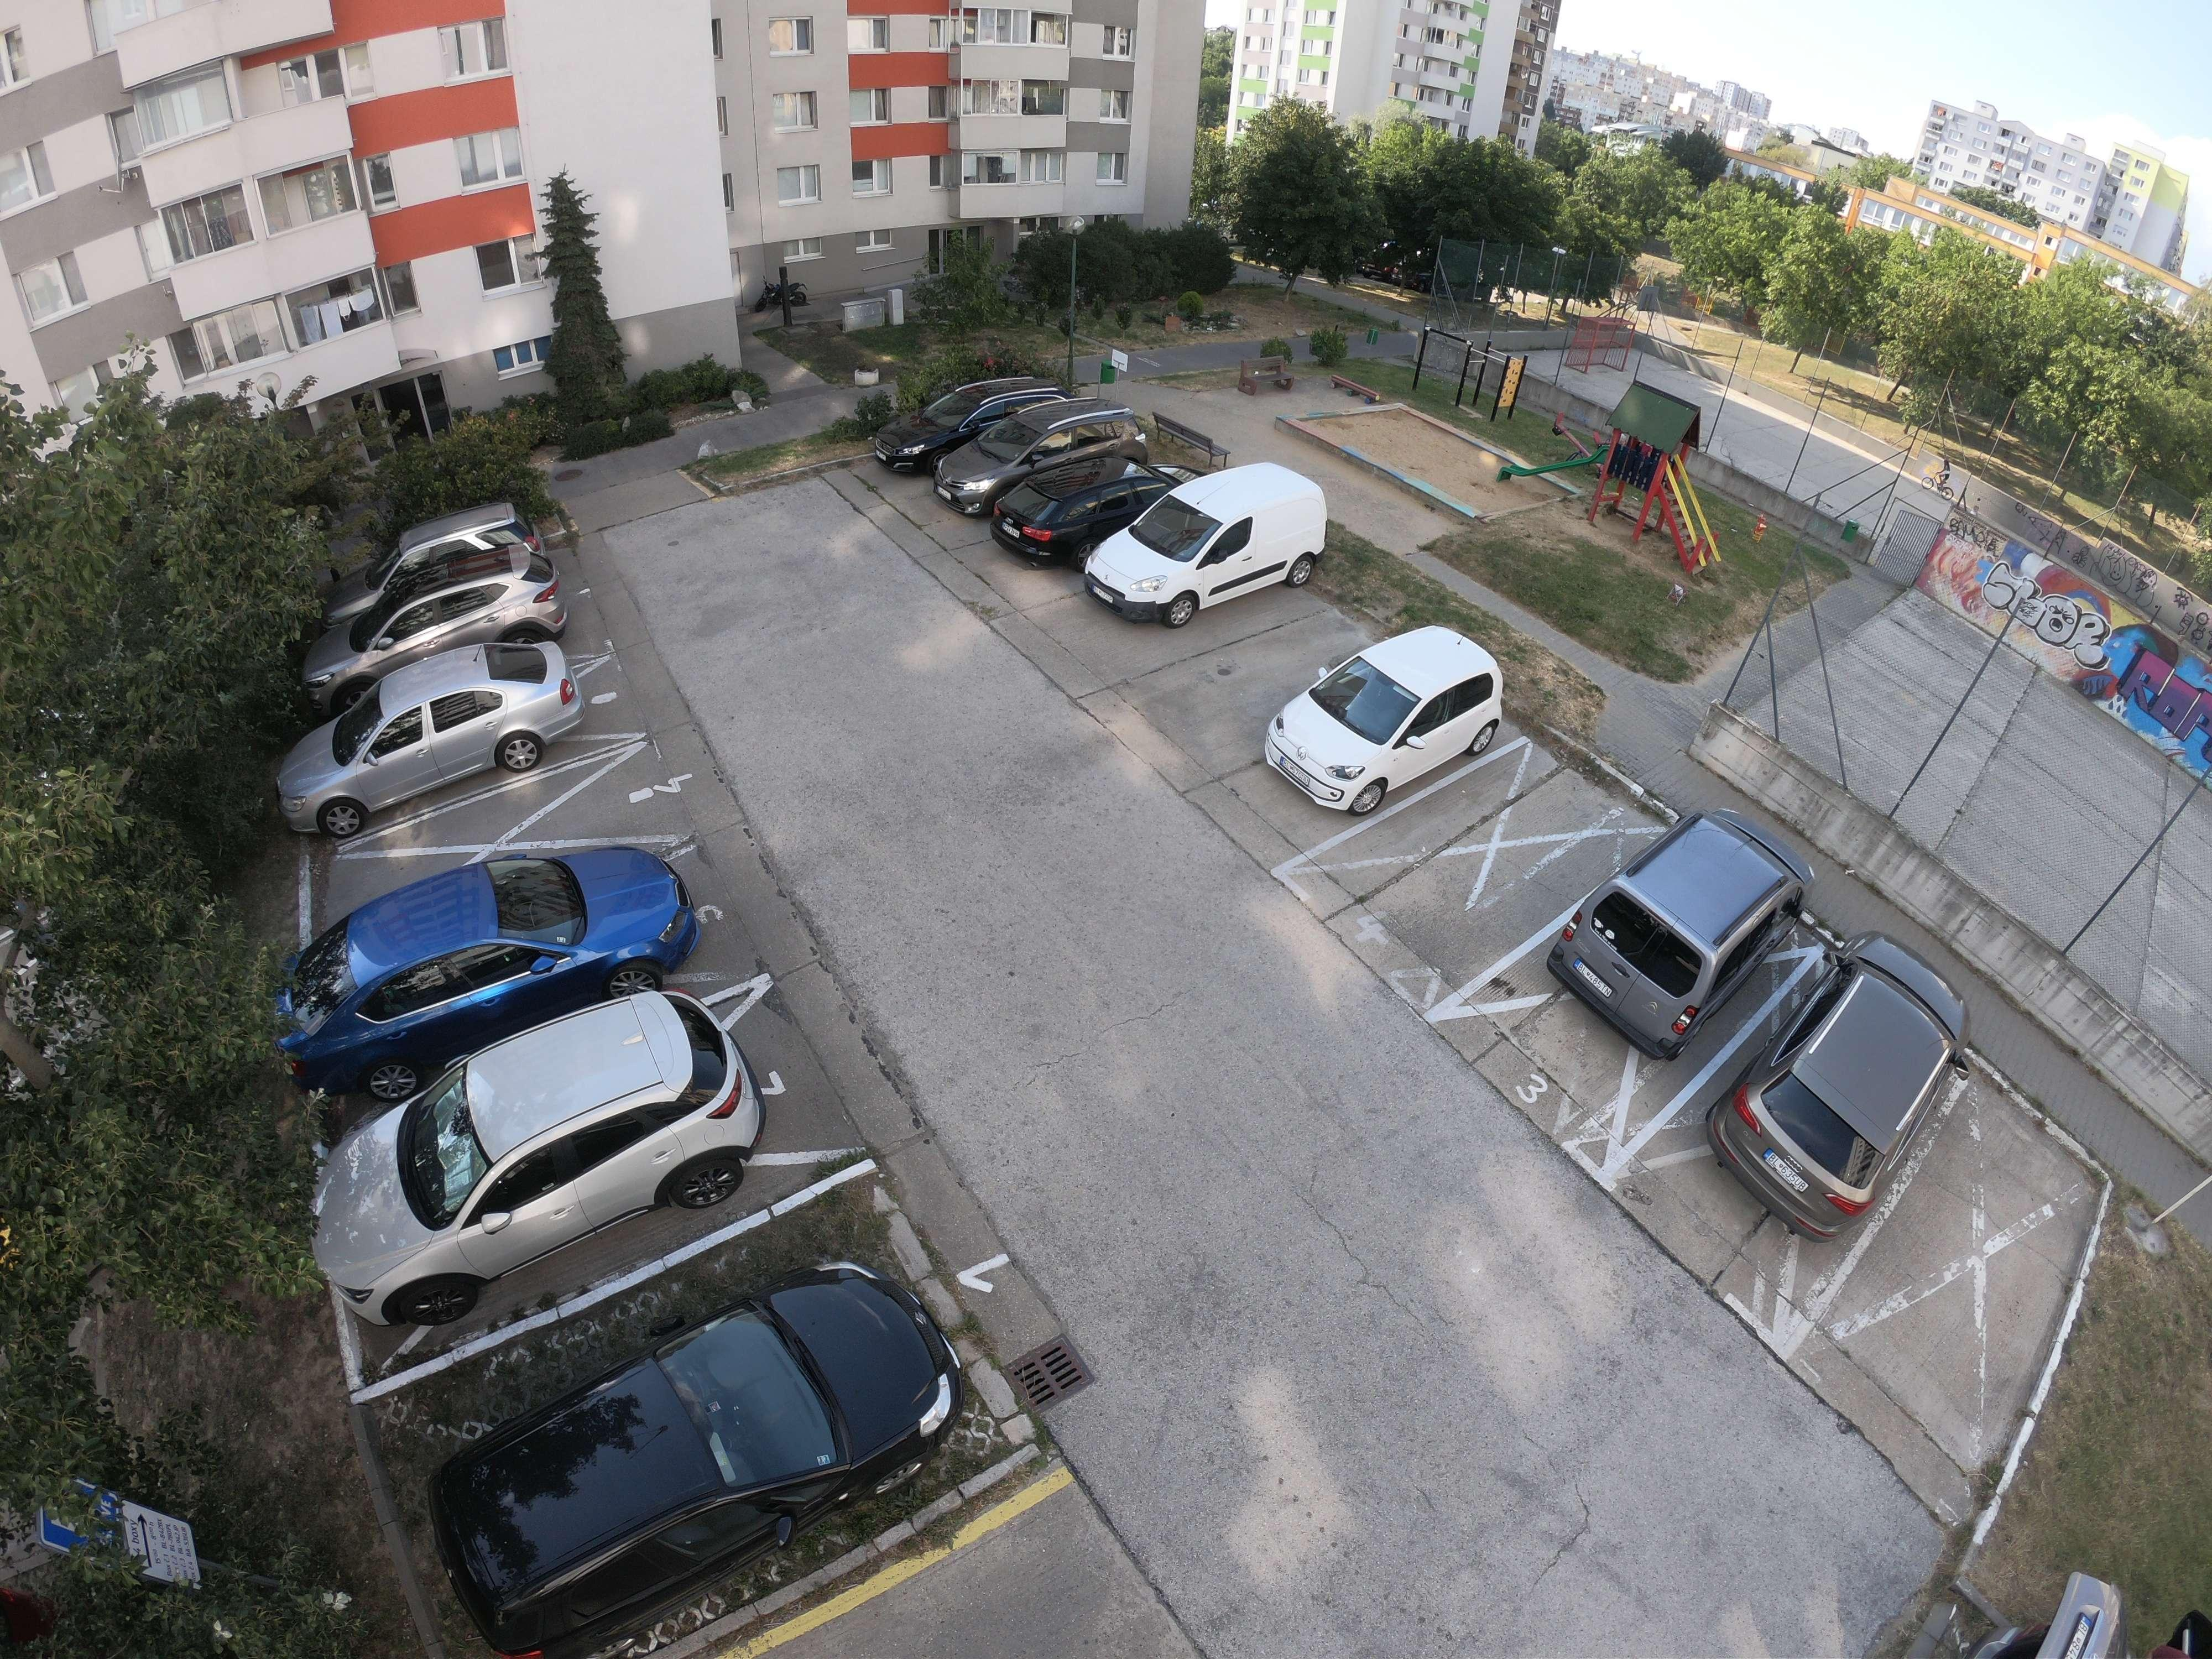empty: (425, 1253, 1015, 1629), (336, 1000, 777, 1291), (308, 833, 707, 1061), (1723, 936, 1965, 1229), (1548, 816, 1799, 1051), (294, 645, 578, 821), (1268, 626, 1519, 814), (1101, 469, 1348, 631), (324, 558, 563, 676), (935, 378, 1150, 505), (1000, 423, 1191, 558), (329, 505, 566, 594), (866, 375, 1035, 471), (1986, 1574, 2148, 1654)
occupied: (1876, 1168, 2059, 1370), (1409, 789, 1568, 917), (402, 789, 570, 861), (1235, 612, 1346, 695)
